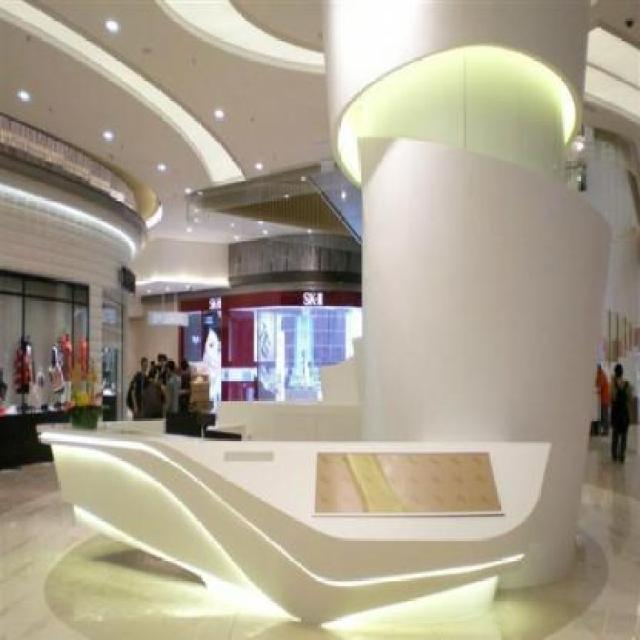frontdesk: (31, 392, 574, 640)
